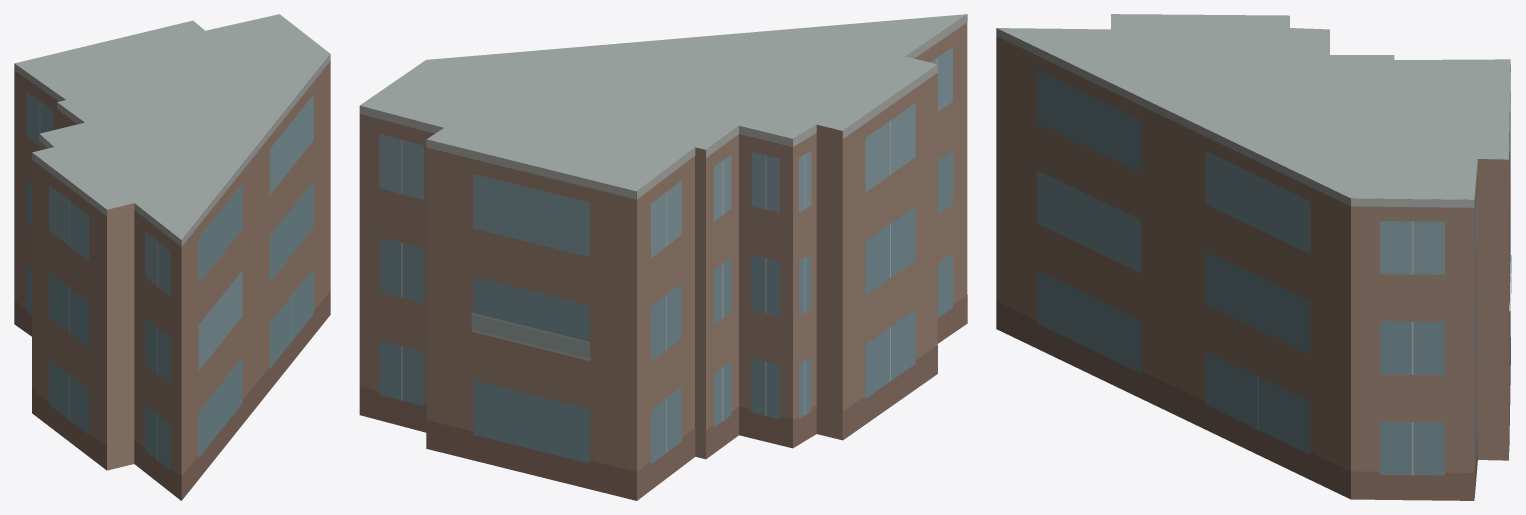
Rendered from survey-upis-32473313.glb.
The picture shows the model from 3 angles, left to right: view 1: azimuth 30°, elevation 25°; view 2: azimuth 150°, elevation 25°; view 3: azimuth 270°, elevation 25°; orthographic projection. The views are drawn at different scales.
Parts seen in each view (by area): view 1: survey-upis-32473313.tmp; view 2: survey-upis-32473313.tmp; view 3: survey-upis-32473313.tmp.
Boxes of the visible parts, x1,y1,x2,y2 form: survey-upis-32473313.tmp: (14,14,330,500); survey-upis-32473313.tmp: (359,14,967,500); survey-upis-32473313.tmp: (996,14,1511,500).
Size of the model in its own units: 12.12 by 9.15 by 14.2.
